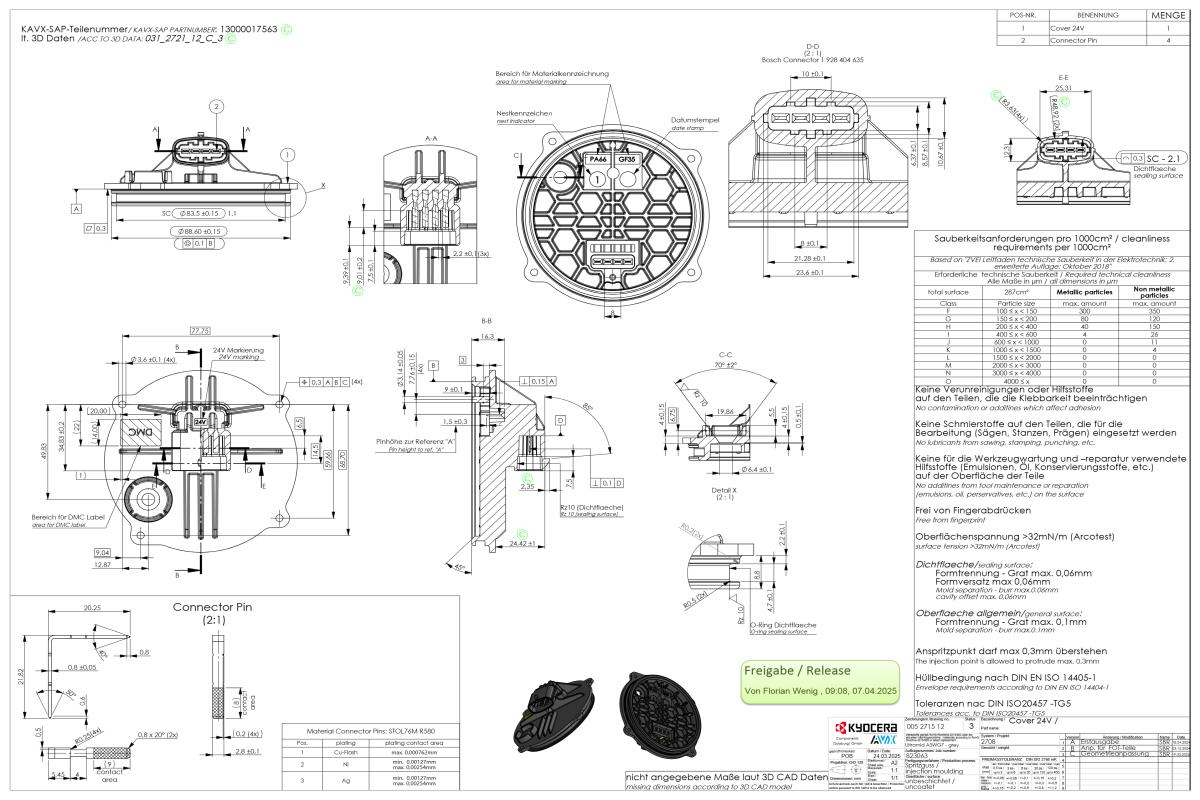falcon_r1: (19, 305, 368, 596), (372, 301, 644, 585), (476, 45, 727, 349), (716, 22, 968, 306), (52, 78, 336, 291), (640, 326, 836, 524), (326, 118, 510, 318), (973, 57, 1194, 219), (657, 510, 851, 652)
